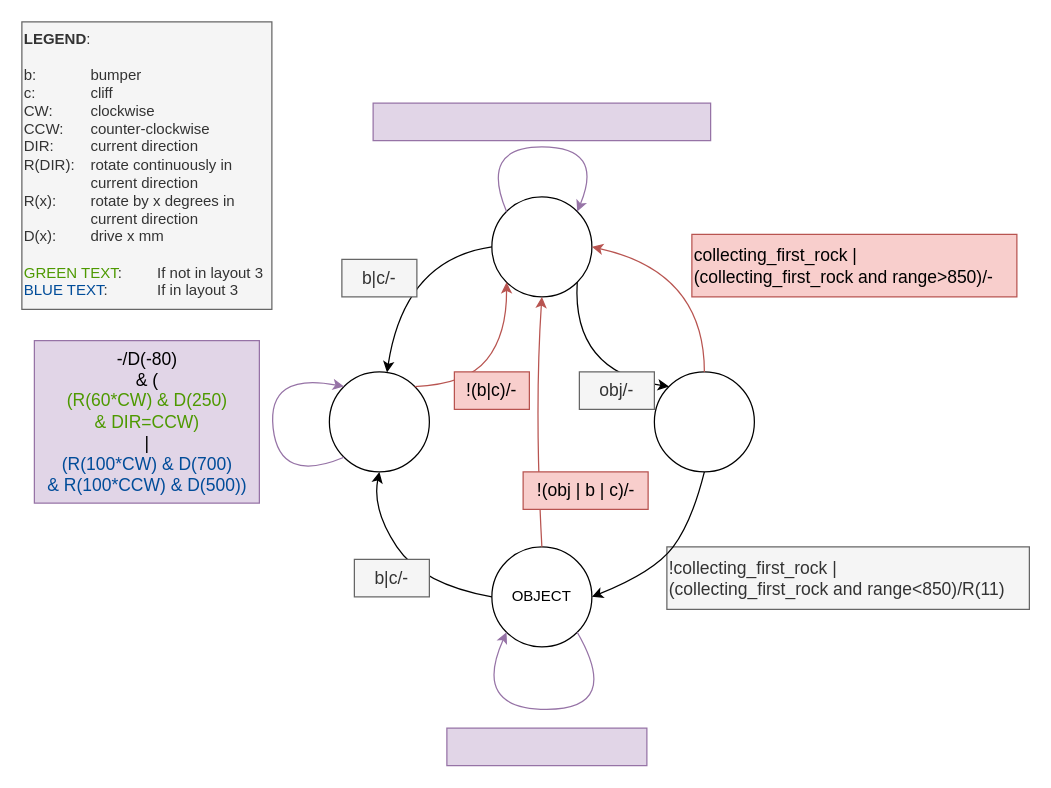
The diagram is 1051 pixels wide and 788 high, and some of its shapes have lost their labels. Each missing label, with the centre of its shape:
"!obj | (obj & keep_searching)/R(DIR)" goes at (541,121).
"FIND" goes at (703,421).
"obj & !(b | c)/D(range)" goes at (546,746).
"OBSTACLE" goes at (378,421).
"SEARCH" goes at (541,246).
